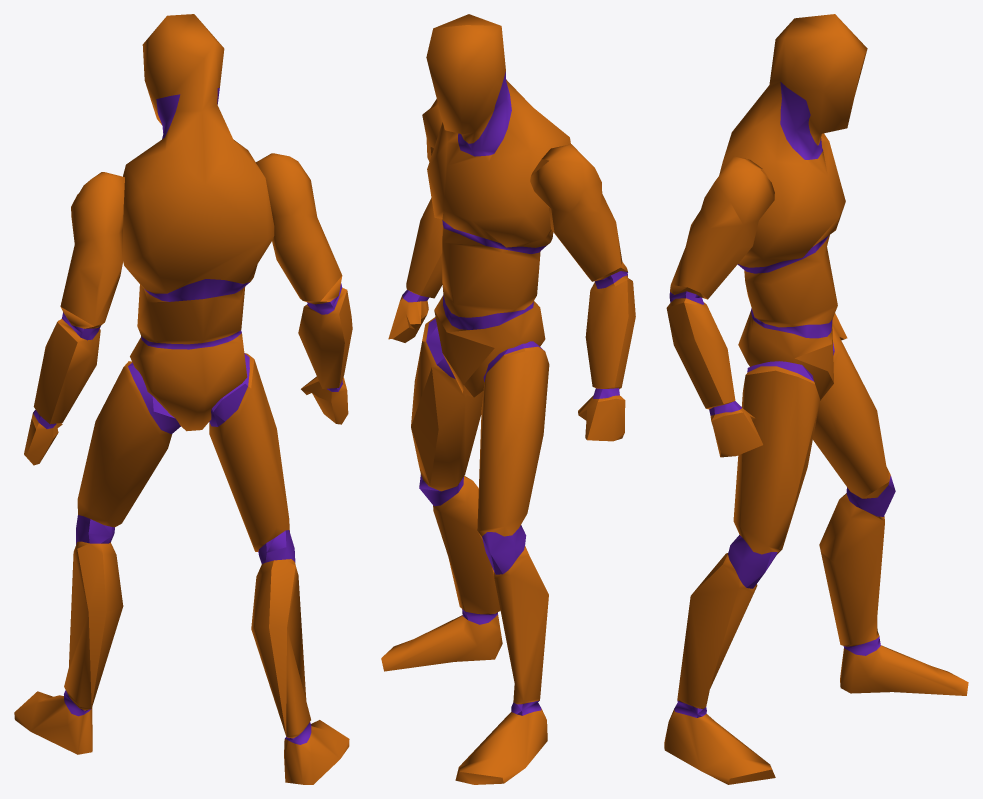
The model's file is MannequinParts 1.FBX.
3 renders of one model, left to right at view 1: azimuth 30°, elevation 25°; view 2: azimuth 150°, elevation 25°; view 3: azimuth 270°, elevation 25°, orthographic. The views are drawn at different scales.
Visible parts, largest first — view 1: M_Torso, M_LeftLeg, M_RightLeg, M_LeftArm, M_RightArm; view 2: M_Torso, M_LeftLeg, M_RightLeg, M_LeftArm, M_RightArm; view 3: M_Torso, M_RightLeg, M_LeftLeg, M_RightArm.
Boxes of the visible parts, box(x1,y1,x2,y2) form: M_Torso: box(123, 14, 274, 431); M_LeftLeg: box(14, 361, 180, 754); M_RightLeg: box(209, 353, 349, 784); M_LeftArm: box(24, 172, 124, 465); M_RightArm: box(255, 153, 352, 424); M_Torso: box(426, 14, 570, 397); M_LeftLeg: box(455, 341, 549, 784); M_RightLeg: box(381, 317, 502, 671); M_LeftArm: box(530, 144, 635, 441); M_RightArm: box(388, 99, 442, 342); M_Torso: box(719, 14, 867, 400); M_RightLeg: box(664, 361, 820, 784); M_LeftLeg: box(813, 324, 968, 695); M_RightArm: box(666, 156, 774, 457).
Size of the model in its own units: 72.29 by 178 by 68.88.
